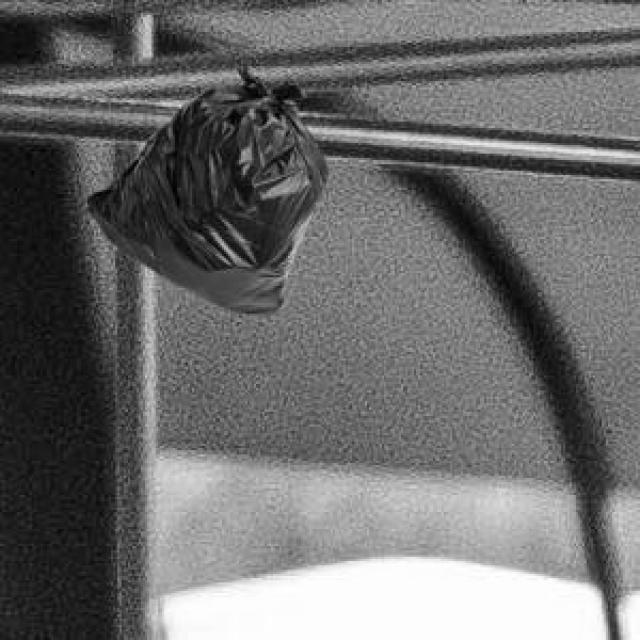miscellaneous trash: (83, 62, 324, 312)
